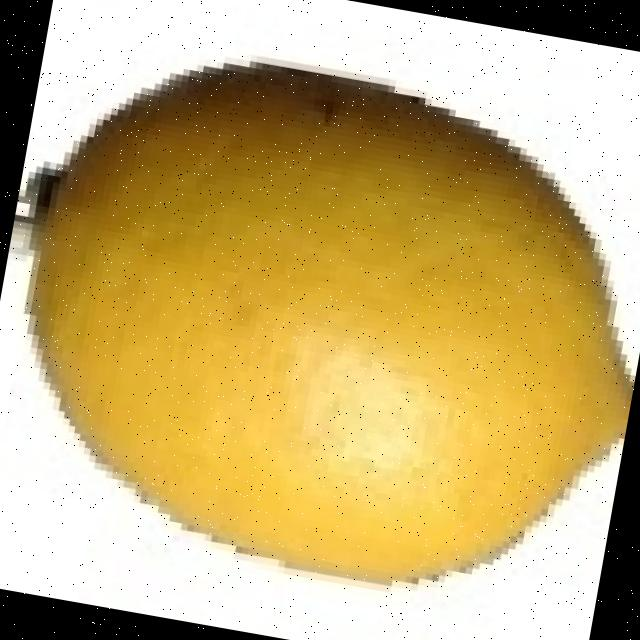lemon: (19, 66, 634, 581)
